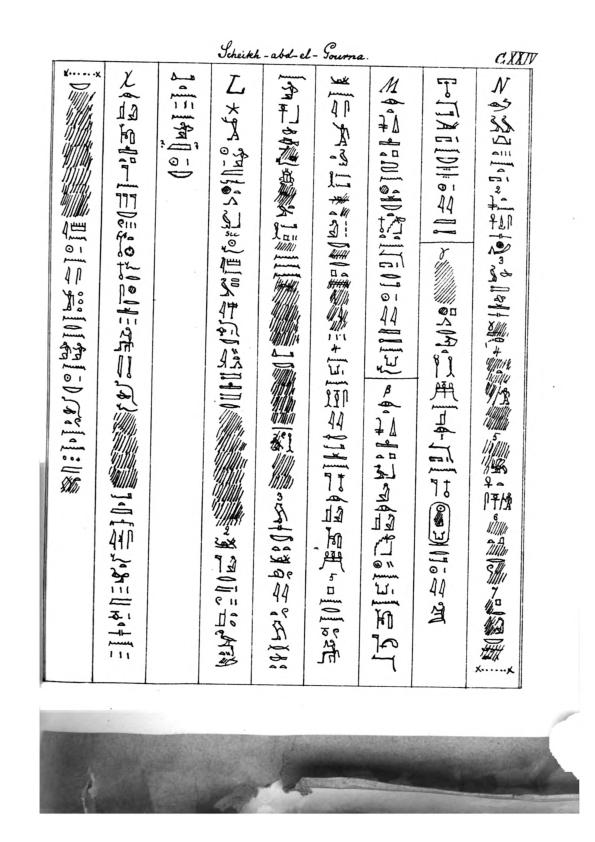circle: (426, 500, 453, 547)
